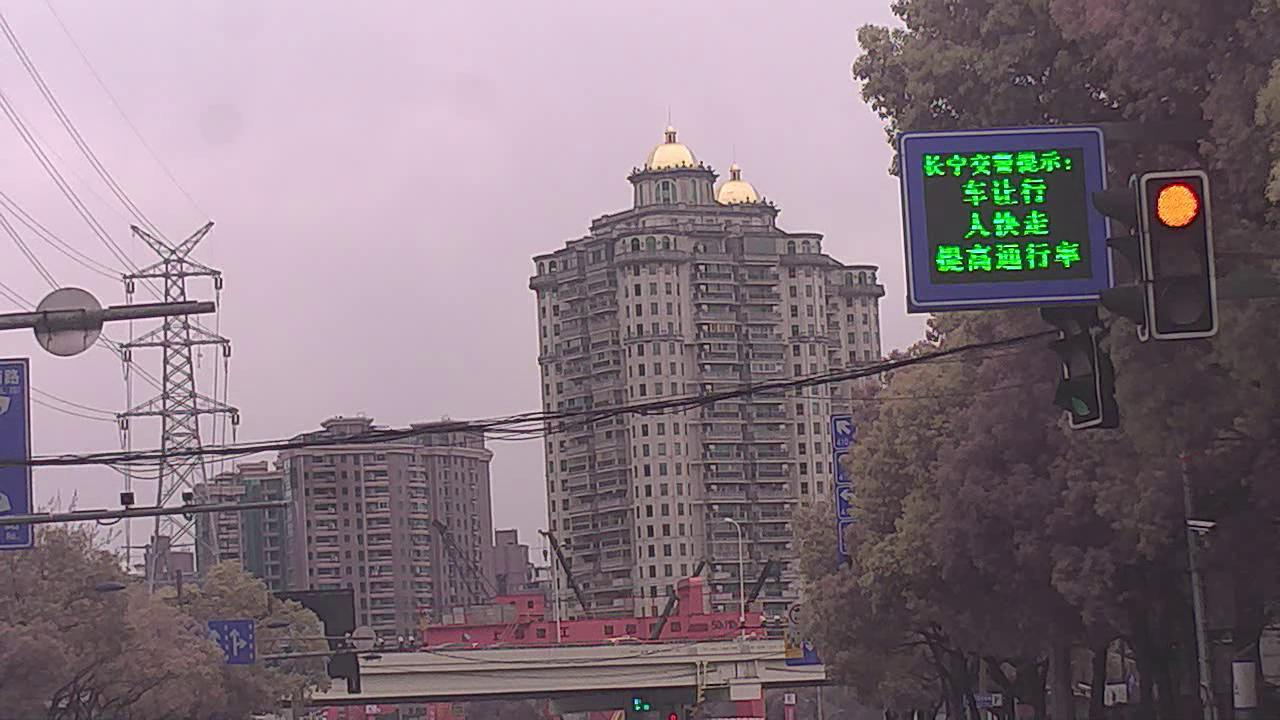traffic_light: (1149, 171, 1209, 341)
